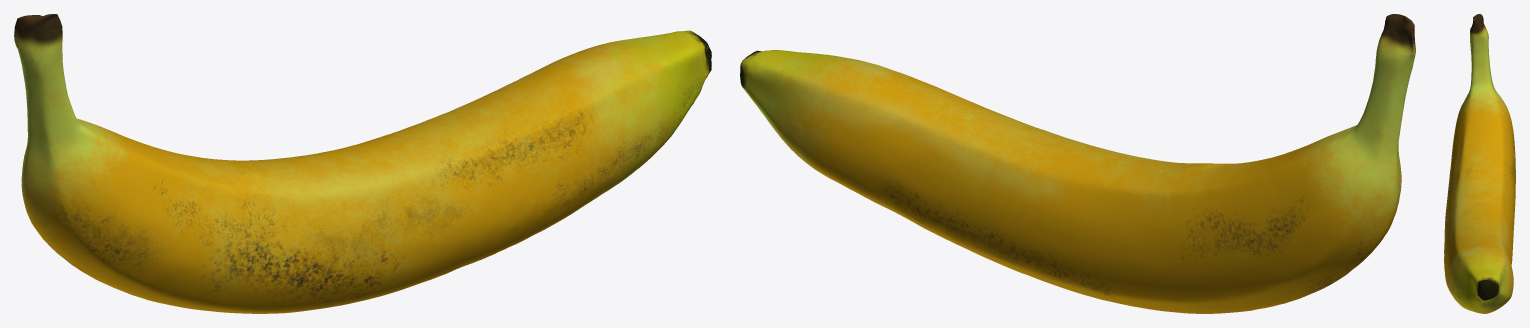
Rendered from banana-model.glb.
3 views of the same model, side by side, from view 1: azimuth 30°, elevation 25°; view 2: azimuth 150°, elevation 25°; view 3: azimuth 270°, elevation 25° (orthographic). The views are drawn at different scales.
Parts seen in each view (by area): view 1: g; view 2: g; view 3: g.
Part boxes in pixels (bbox=[...]): g: bbox=[14, 14, 711, 313]; g: bbox=[740, 14, 1415, 313]; g: bbox=[1444, 14, 1515, 313].
Size of the model in its own units: 2 by 0.9929 by 0.3523.
1 material, 1 textured.
